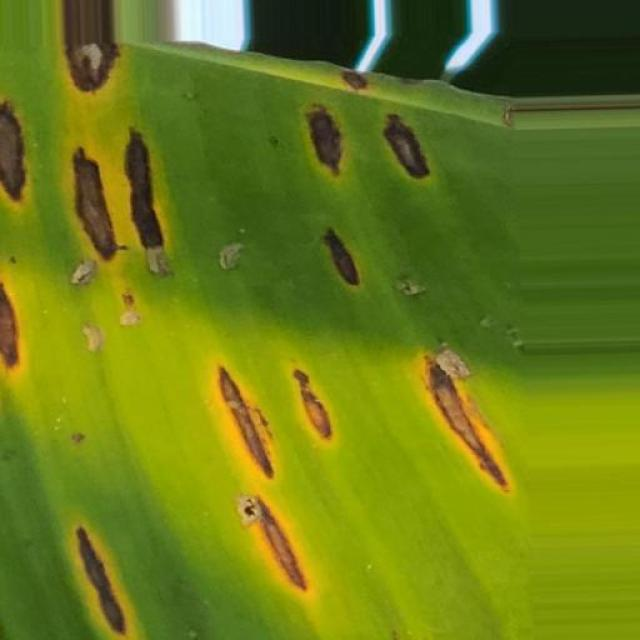Early_rust: (0, 33, 538, 640)
